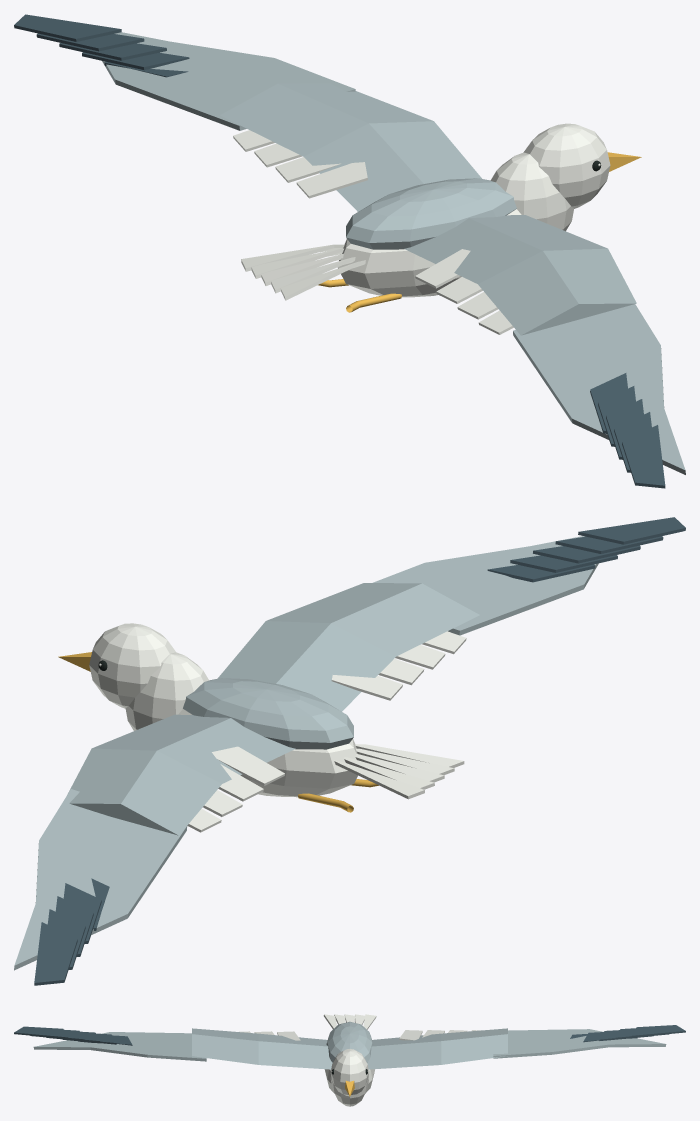
The model's file is seagull.glb.
3 views of the same model, one above another, from view 1: azimuth 30°, elevation 25°; view 2: azimuth 150°, elevation 25°; view 3: azimuth 270°, elevation 25° (orthographic). The views are drawn at different scales.
Visible parts, largest first — view 1: Inner_wing, Inner_wing.001, Outer_wing.001, Outer_wing, Gull_mantle, Gull_head, Gull_body, Gull_neck, Primary_feather.009, Primary_feather.004, Secondary_feather, Secondary_feather.004 (+14 smaller); view 2: Inner_wing.001, Inner_wing, Outer_wing, Outer_wing.001, Gull_mantle, Gull_head, Gull_body, Gull_neck, Primary_feather.004, Primary_feather.009, Secondary_feather, Secondary_feather.004 (+15 smaller); view 3: Inner_wing.001, Inner_wing, Outer_wing, Outer_wing.001, Gull_head, Gull_mantle, Primary_feather.009, Primary_feather.004, Gull_neck, Gull_body, Primary_feather.006, Primary_feather.007 (+5 smaller).
Boxes of the visible parts, x1,y1,x2,y2 form: Inner_wing: [220, 83, 481, 211]; Inner_wing.001: [404, 215, 636, 335]; Outer_wing.001: [513, 304, 685, 474]; Outer_wing: [102, 32, 355, 130]; Gull_mantle: [346, 178, 516, 249]; Gull_head: [523, 123, 610, 208]; Gull_body: [338, 209, 521, 297]; Gull_neck: [490, 152, 574, 231]; Primary_feather.009: [622, 425, 665, 488]; Primary_feather.004: [14, 14, 121, 41]; Secondary_feather: [296, 162, 367, 198]; Secondary_feather.004: [415, 249, 470, 288]; Inner_wing.001: [218, 583, 479, 711]; Inner_wing: [68, 714, 295, 835]; Outer_wing: [14, 789, 187, 970]; Outer_wing.001: [373, 536, 598, 635]; Gull_mantle: [183, 678, 353, 749]; Gull_head: [89, 623, 176, 708]; Gull_body: [178, 709, 357, 797]; Gull_neck: [125, 652, 208, 730]; Primary_feather.004: [34, 922, 77, 985]; Primary_feather.009: [578, 517, 685, 544]; Secondary_feather: [212, 746, 284, 785]; Secondary_feather.004: [331, 675, 402, 700]; Inner_wing.001: [192, 1028, 332, 1069]; Inner_wing: [367, 1028, 507, 1069]; Outer_wing: [493, 1029, 666, 1058]; Outer_wing.001: [33, 1032, 206, 1061]; Gull_head: [330, 1049, 368, 1096]; Gull_mantle: [326, 1021, 373, 1062]; Primary_feather.009: [14, 1026, 68, 1038]; Primary_feather.004: [631, 1025, 685, 1037]; Gull_neck: [330, 1075, 368, 1106]; Gull_body: [324, 1069, 374, 1093]; Primary_feather.006: [62, 1033, 116, 1044]; Primary_feather.007: [46, 1031, 100, 1042].
Bounding box in the file's own units: 0.937 × 0.311 × 2.72.
